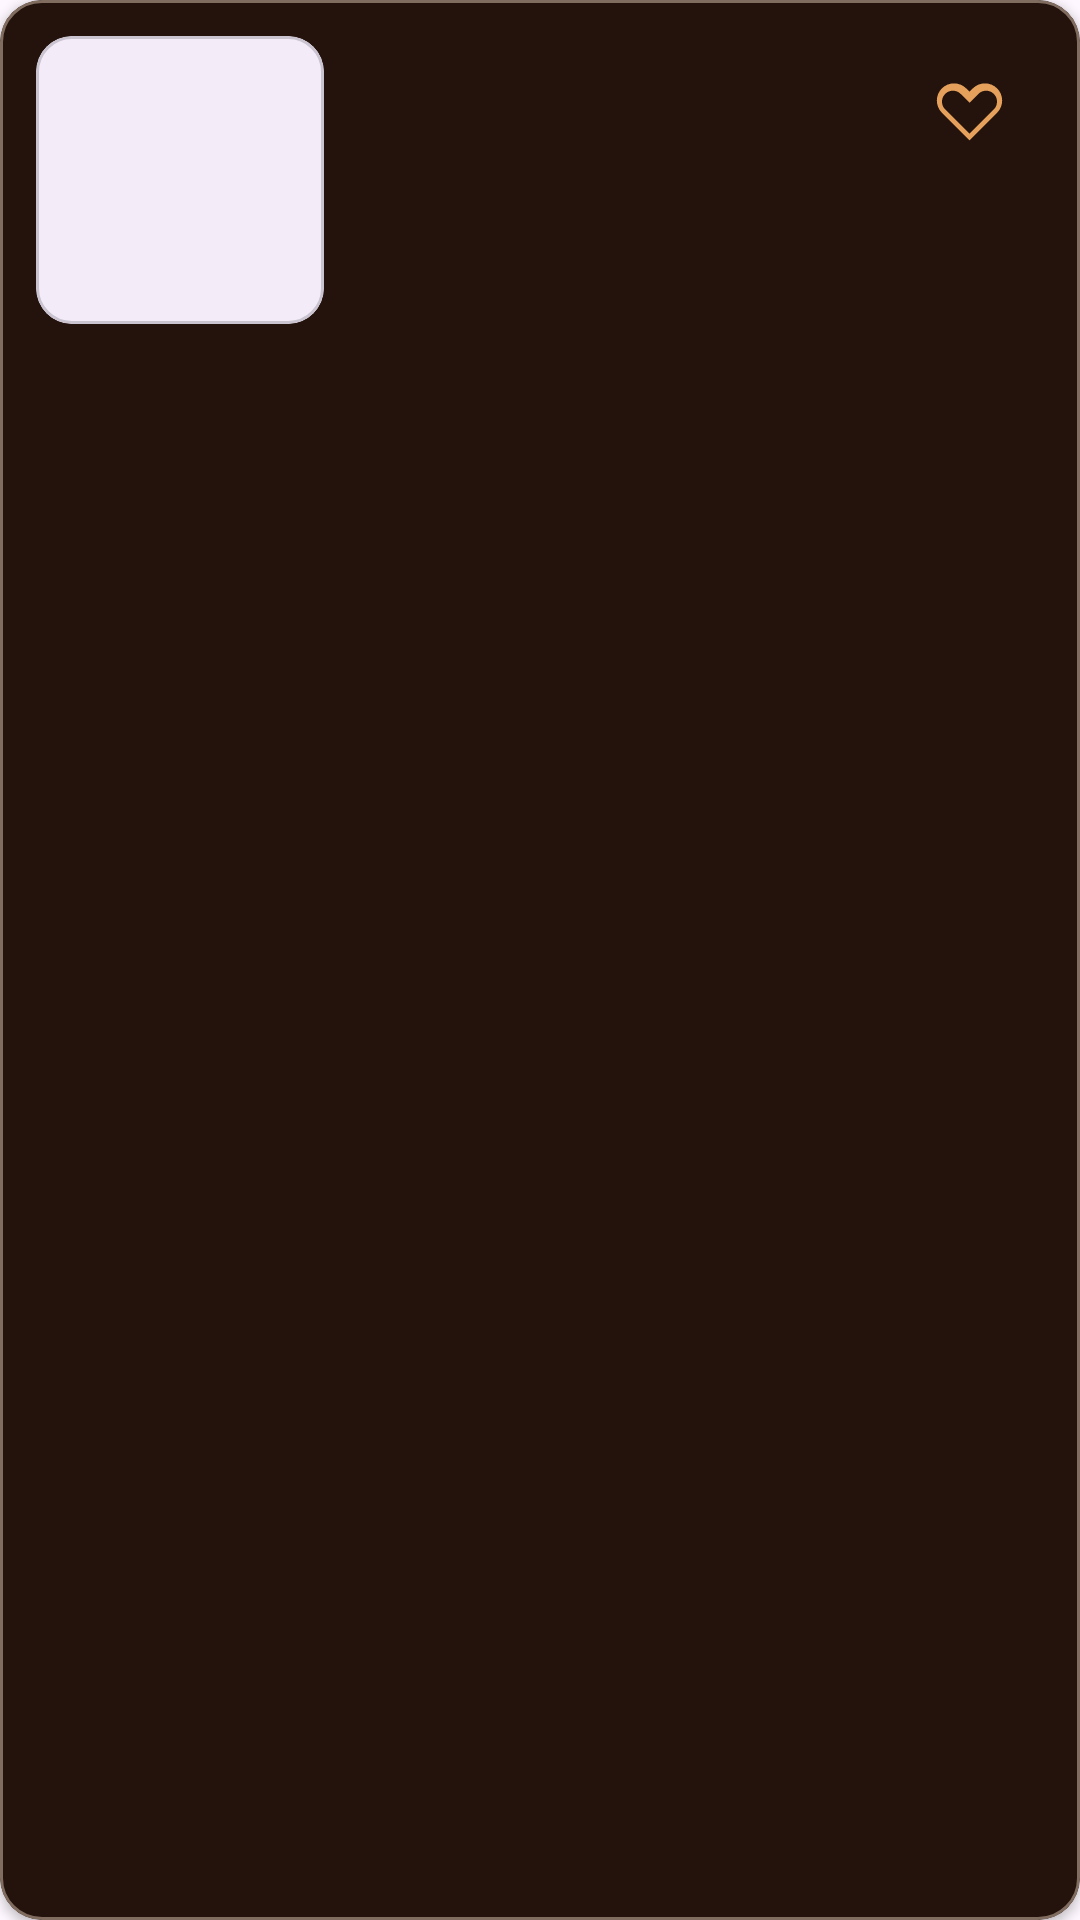

Where icons sit on this 1080x1920 app screen, as (x1, y1, x2, y2):
Add or remove from favorites: (936, 83, 1003, 141)
